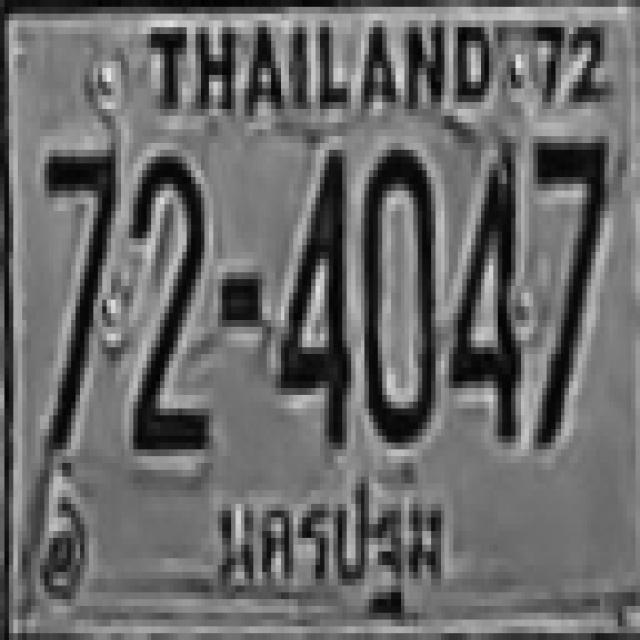0: (360, 146, 431, 440)
2: (129, 156, 204, 450)
4: (447, 136, 518, 436), (276, 143, 346, 443)
7: (40, 143, 116, 449), (529, 133, 604, 439), (40, 143, 116, 354)
NakhonPathom: (213, 470, 445, 631)
